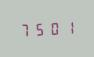five: (32, 20, 45, 37)
one: (60, 19, 73, 35)
seven: (18, 21, 31, 37)
zero: (46, 20, 59, 36)
